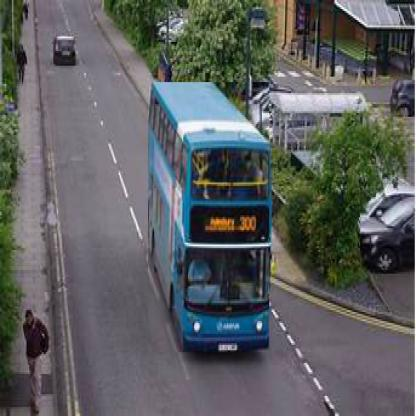bus: (149, 83, 271, 355)
car: (361, 198, 416, 269), (392, 81, 415, 120), (55, 38, 78, 67)
